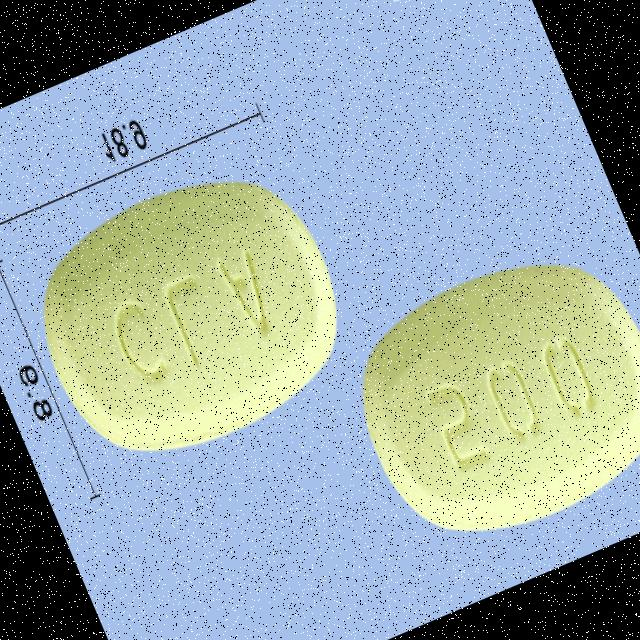Clar: (2, 140, 378, 492), (325, 222, 640, 575)
